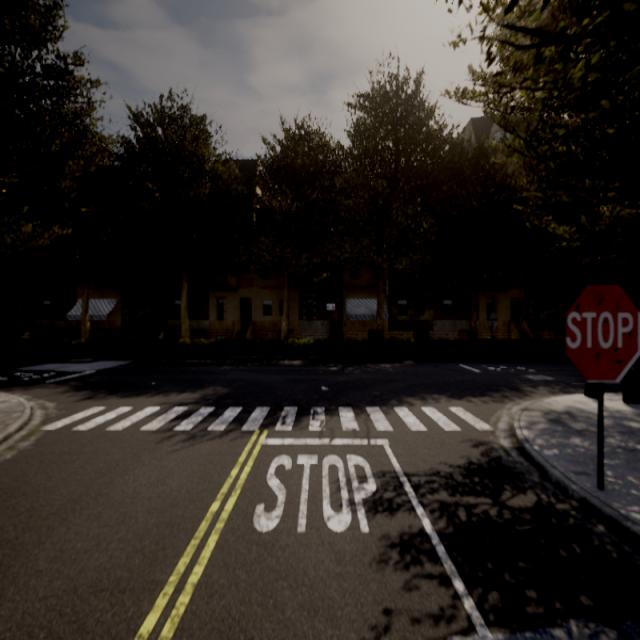stop sign: (562, 280, 638, 387), (565, 308, 634, 351)
